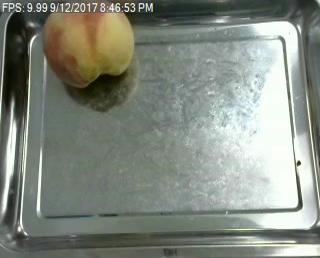Peach: (41, 0, 135, 87)
